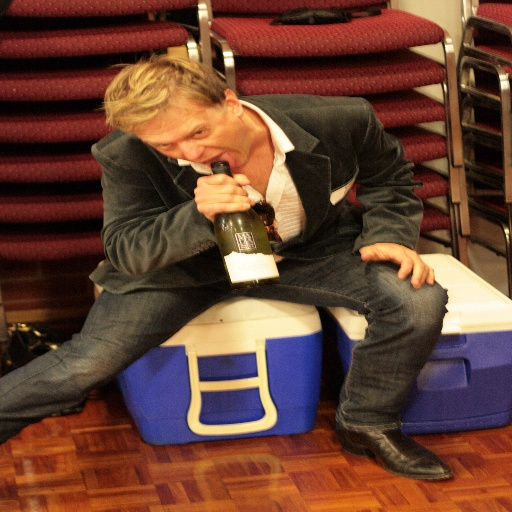hand: (356, 243, 436, 290), (198, 170, 265, 215)
